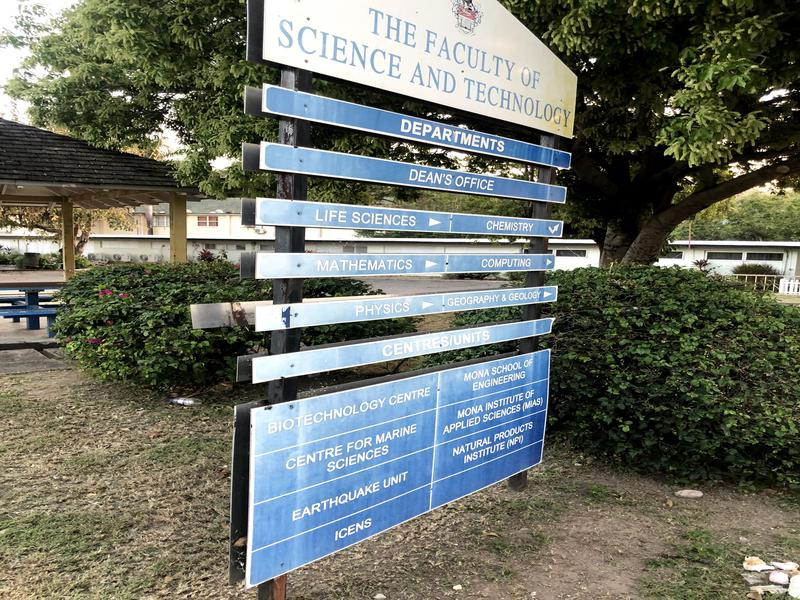18.0055634_-76.7484079_scitechsign: (197, 1, 596, 600)
